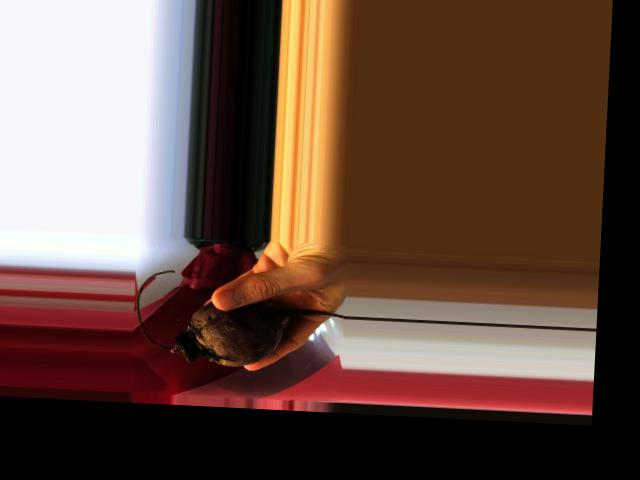beet: (133, 268, 346, 371)
